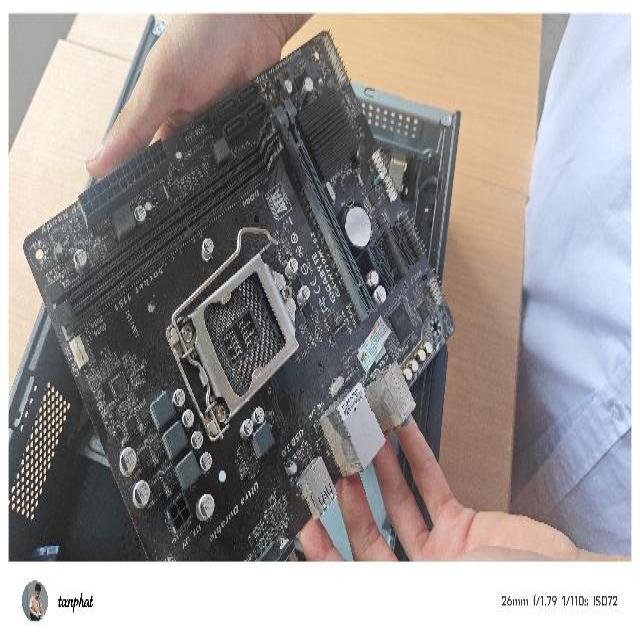Mainboard: (4, 26, 460, 564)
